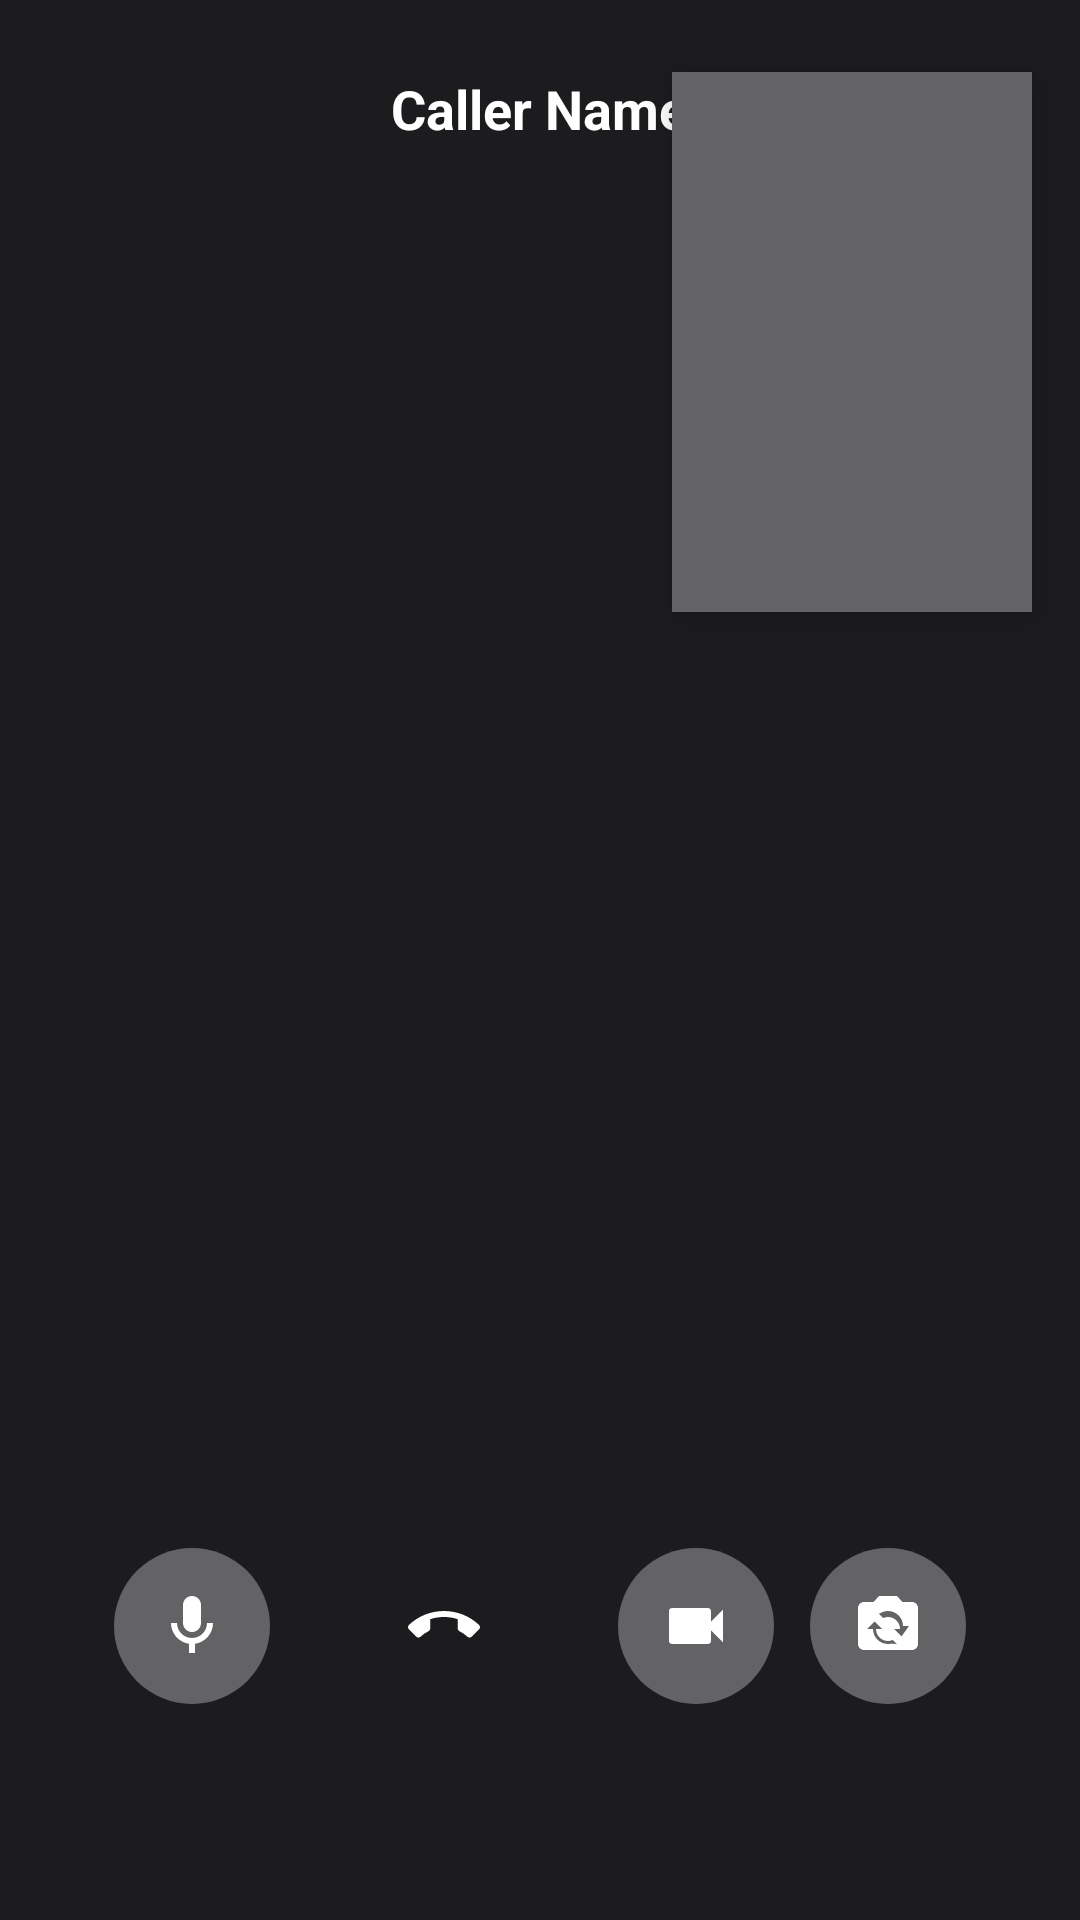

Icons on this 1080*1920 Android screen, each with its box as (x1, y1, x2, y2):
Camera: (618, 1548, 774, 1704)
End Call: (408, 1611, 480, 1638)
Mute: (114, 1548, 270, 1704)
Switch Camera: (810, 1548, 966, 1704)
